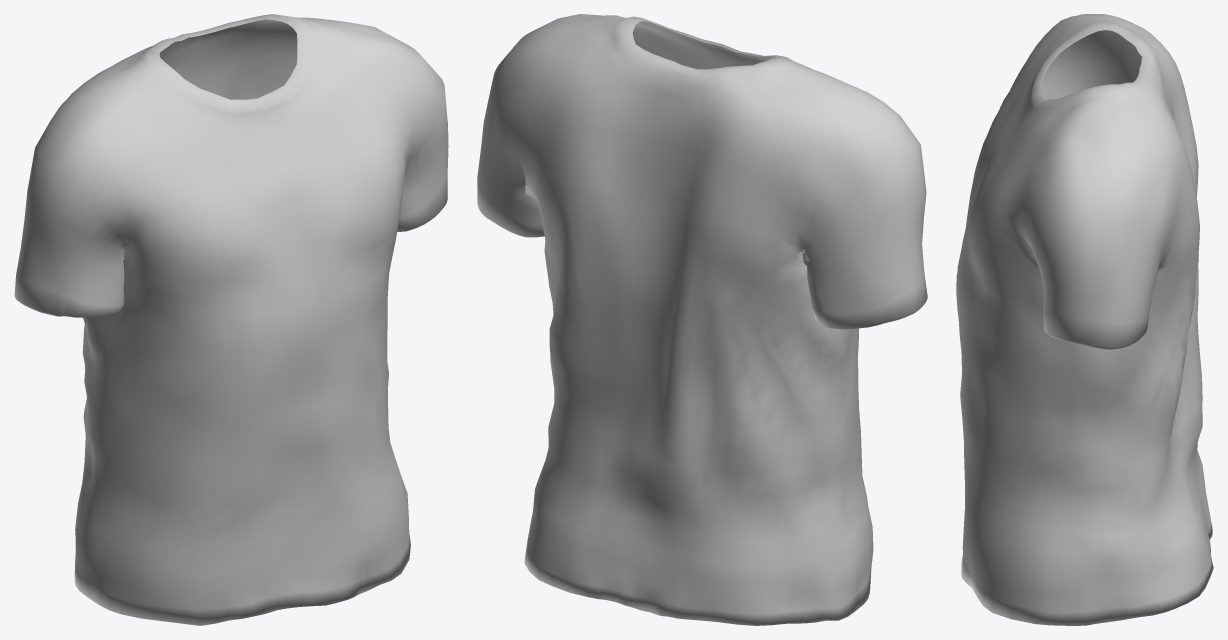
The model's file is top_white_tee.gltf.
3 views of the same model, side by side, from view 1: azimuth 30°, elevation 25°; view 2: azimuth 150°, elevation 25°; view 3: azimuth 270°, elevation 25° (orthographic). The views are drawn at different scales.
Visible parts, largest first — view 1: top_white_tee; view 2: top_white_tee; view 3: top_white_tee.
Part boxes in pixels (bbox=[...]): top_white_tee: bbox=[14, 14, 448, 625]; top_white_tee: bbox=[477, 14, 927, 625]; top_white_tee: bbox=[956, 14, 1213, 625].
Bounding box in the file's own units: 0.5106 × 0.6093 × 0.2812.
Materials: 1 (1 with a texture image).
